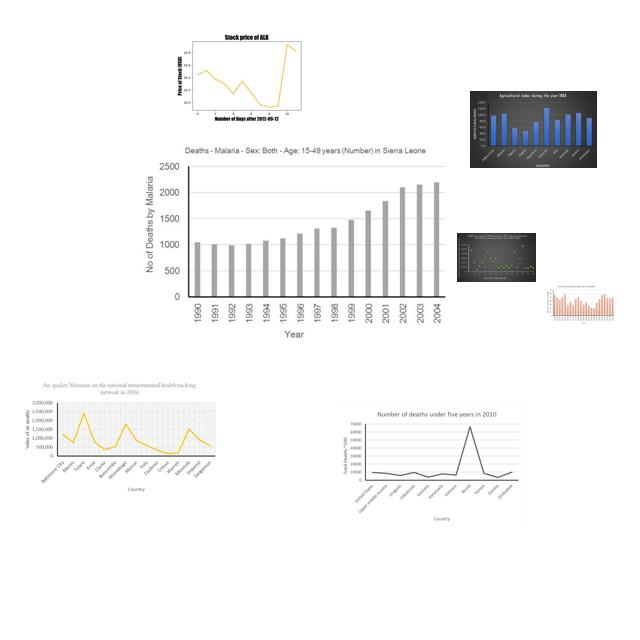Graph: (138, 143, 452, 343), (21, 379, 220, 495), (337, 406, 524, 527), (175, 23, 315, 128), (470, 91, 597, 168), (457, 233, 536, 282), (546, 284, 614, 324)
